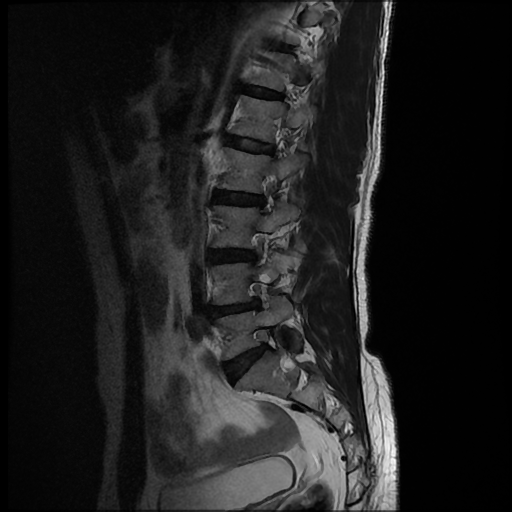RFS0: (241, 165, 287, 221), (236, 316, 285, 365), (235, 274, 281, 317), (238, 225, 281, 271)
